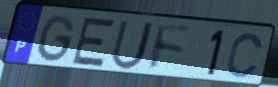1: (206, 29, 226, 78)
C: (224, 31, 265, 80)
E: (69, 15, 118, 69)
F: (147, 22, 194, 74)
G: (36, 13, 77, 65)
U: (109, 19, 157, 72)
